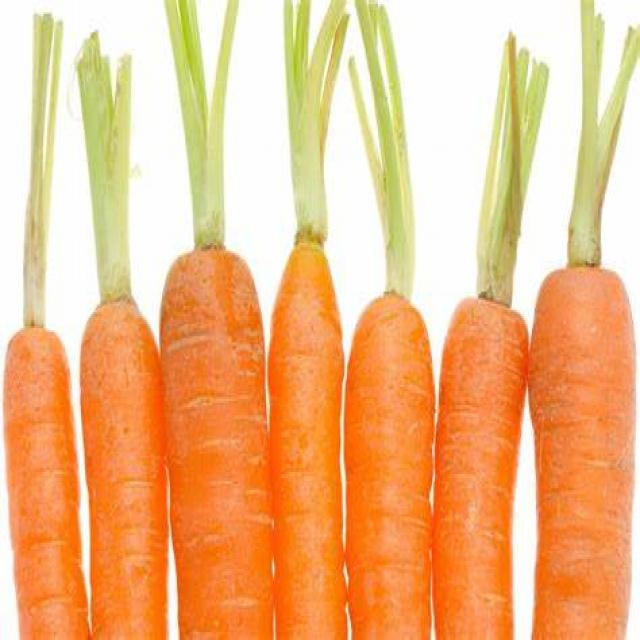Carrot: (160, 246, 276, 640), (532, 262, 640, 640), (337, 287, 440, 640), (435, 297, 531, 640), (78, 298, 174, 640), (269, 232, 348, 640), (4, 324, 84, 640)
